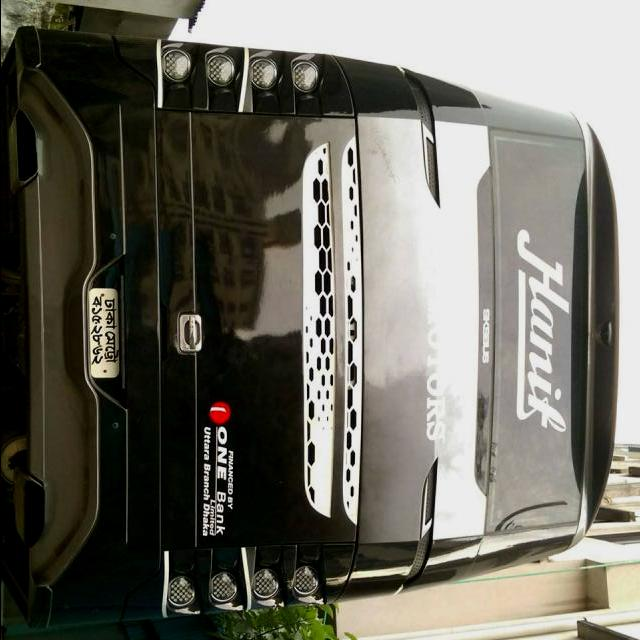bus: (4, 21, 621, 635)
